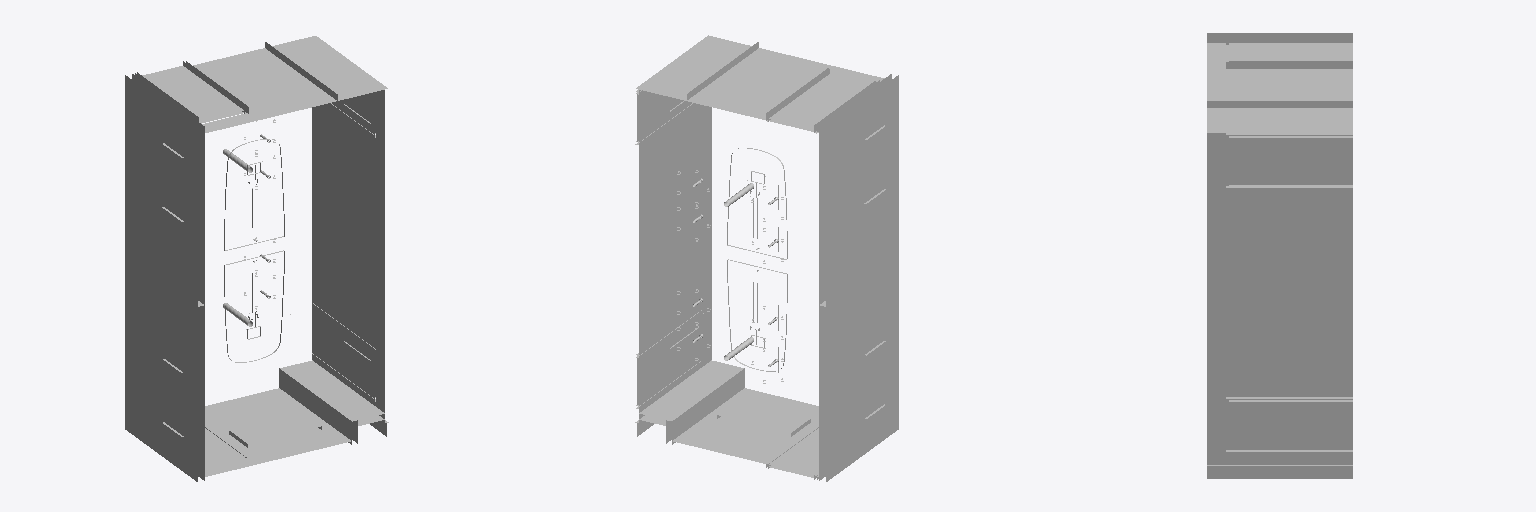
File: perpendicular_faces.obj
3 views of the same model, side by side, from view 1: azimuth 30°, elevation 25°; view 2: azimuth 150°, elevation 25°; view 3: azimuth 270°, elevation 25° (orthographic).
Size of the model in its own units: 3.85 by 6.77 by 2.52.